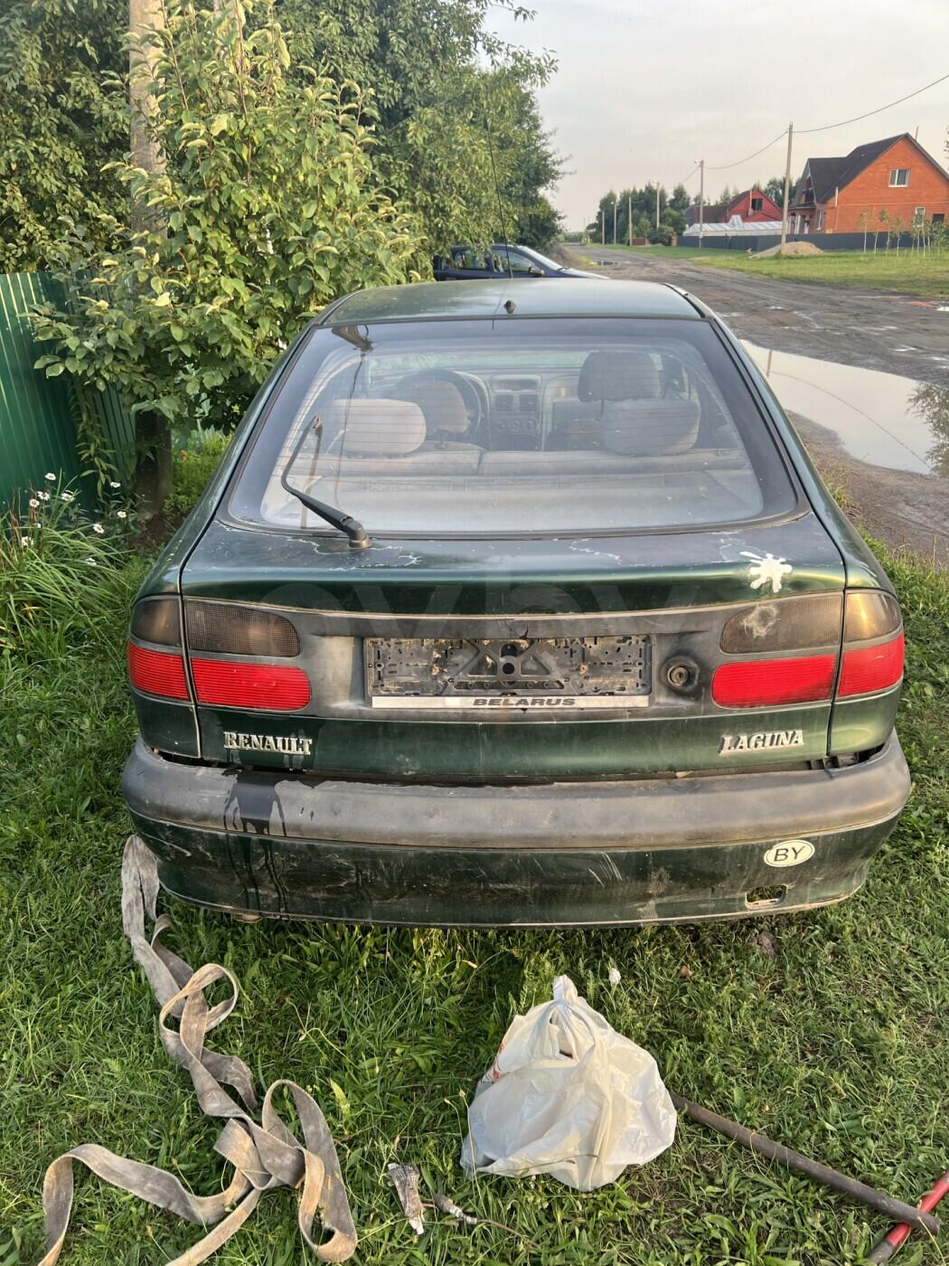Lahuna_1993-1999: (105, 266, 922, 964)
